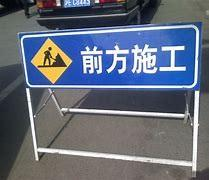sign: (20, 34, 197, 87)
